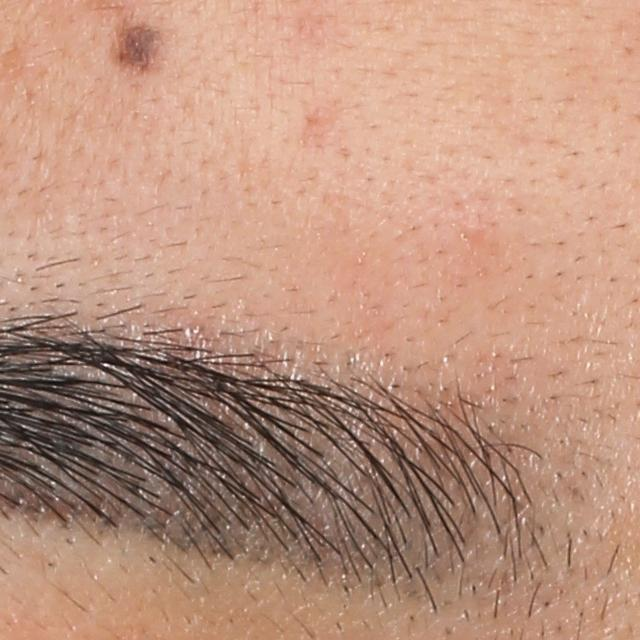nevus: (105, 8, 173, 70)
